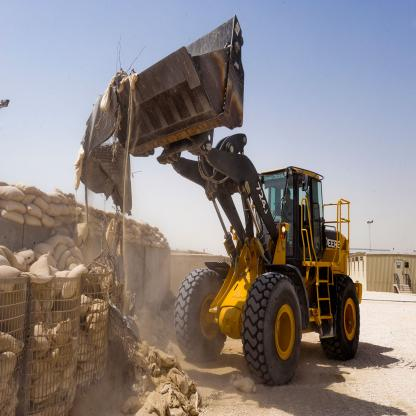bull_dozer/loader/grader: (86, 13, 304, 342)
